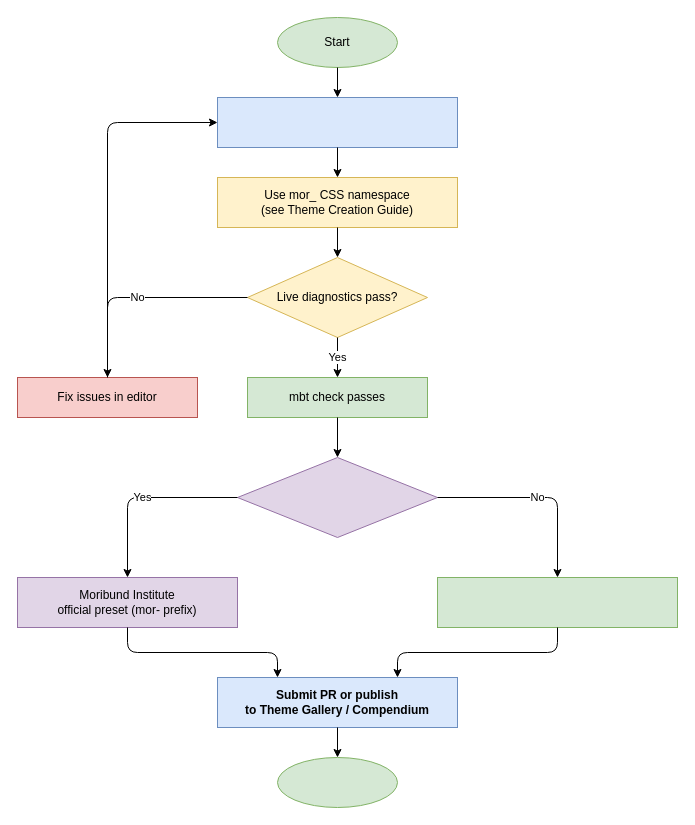
The diagram is 695 pixels wide and 825 high, and some of its shapes have lost their labels. The shapes that lost their labels are listed below. From the top down, each one's box as (x1, y1, x2, y2) in pixels, then its label:
(216, 96, 458, 148): Author preset in MorBlogger Theme Palette + Custom CSS
(236, 456, 438, 538): Official mor- release?
(436, 576, 678, 628): Community preset (distinct name, no mor- hogging)
(276, 756, 398, 808): End
